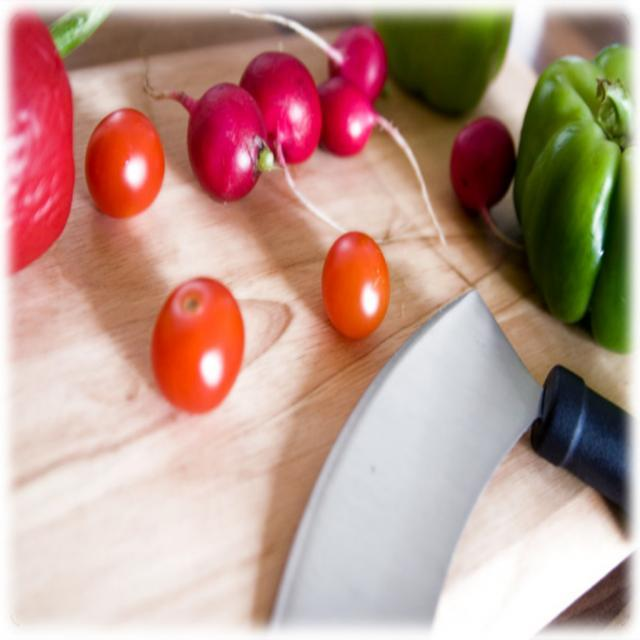Bell pepper: (513, 42, 633, 354), (374, 8, 512, 122)
